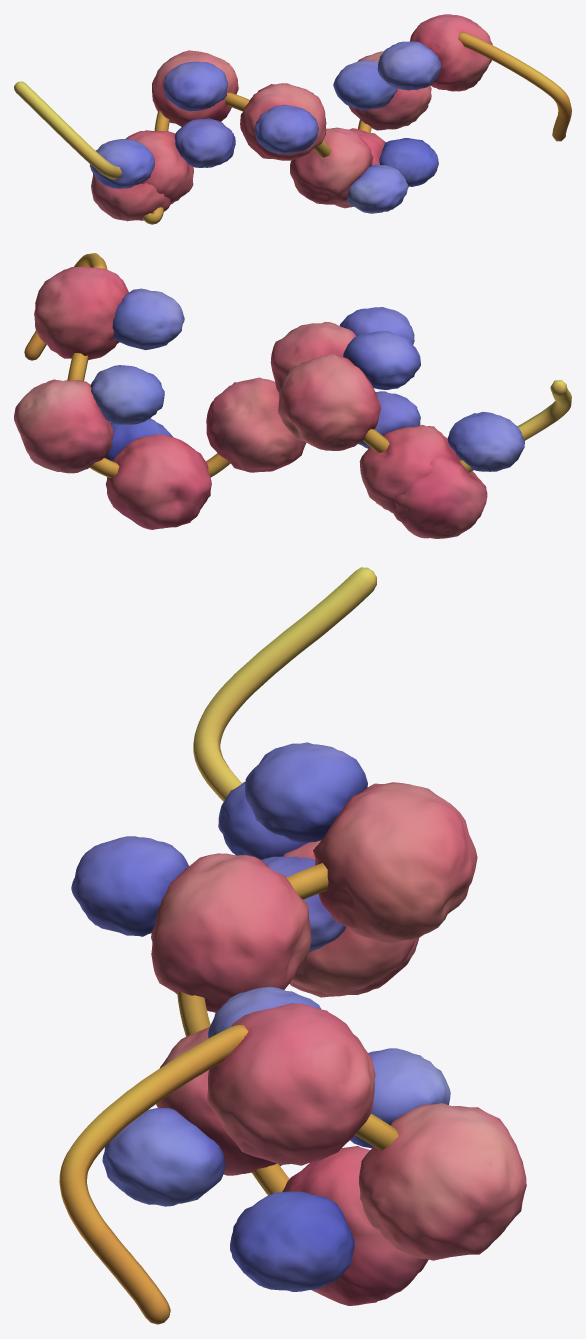
The model's file is ribosome.glb.
The picture shows the model from 3 angles, top to bottom: view 1: azimuth 30°, elevation 25°; view 2: azimuth 150°, elevation 25°; view 3: azimuth 270°, elevation 25°; orthographic projection. The views are drawn at different scales.
Parts seen in each view (by area): view 1: ribosome-large, ribosome-small, ribosome-mrna; view 2: ribosome-large, ribosome-small, ribosome-mrna; view 3: ribosome-large, ribosome-small, ribosome-mrna.
Boxes of the visible parts, <box> form: ribosome-large: <box>91,14,492,221</box>; ribosome-small: <box>89,41,441,213</box>; ribosome-mrna: <box>14,32,571,224</box>; ribosome-large: <box>14,266,487,538</box>; ribosome-small: <box>90,288,524,471</box>; ribosome-mrna: <box>24,253,571,477</box>; ribosome-large: <box>151,782,526,1305</box>; ribosome-small: <box>71,742,450,1291</box>; ribosome-mrna: <box>59,567,398,1324</box>.
Size of what is drawn, in the model's own units: 1.39 by 0.5391 by 0.5652.
